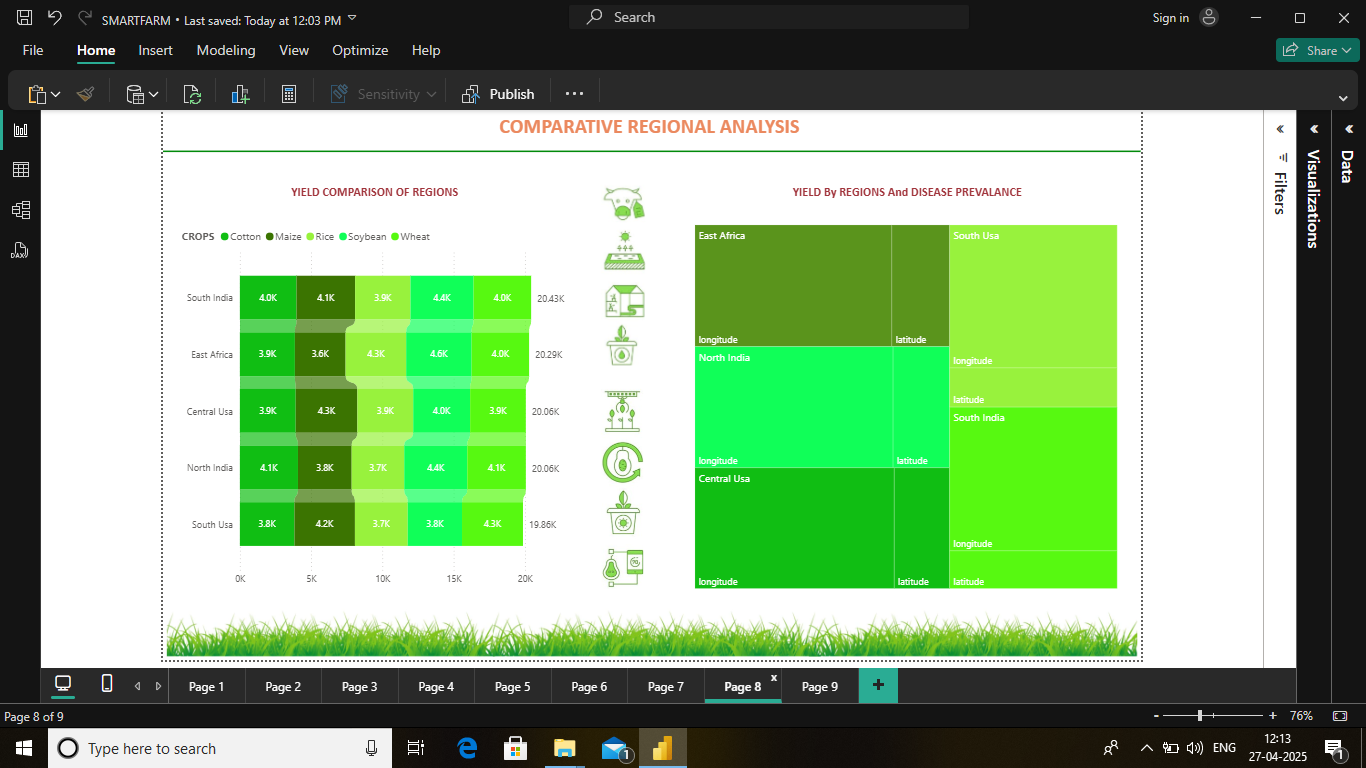

The dashboard page shown, as its layout file describes it:
{"tool":"powerbi","page":{"name":"Page 8","canvas":[1280,720],"ordinal":7},"visuals":[{"type":"shape","box":[0,26.4,1279.8,55.8],"z":0},{"type":"textbox","box":[19.1,0,1234.3,51.4],"z":1000},{"type":"barChart","fields":{"Y":["Smart_Farming_Crop_Yield_2024_CLEANED.Average Yield"],"Category":["Smart_Farming_Crop_Yield_2024_CLEANED.region"],"Series":["Smart_Farming_Crop_Yield_2024_CLEANED.crop_type"]},"box":[19.1,145.5,524.6,486.4],"z":2000},{"type":"treemap","fields":{"Group":["Smart_Farming_Crop_Yield_2024_CLEANED.region","Smart_Farming_Crop_Yield_2024_CLEANED.crop_disease_status"],"Values":["Avg(Smart_Farming_Crop_Yield_2024_CLEANED.latitude)","Avg(Smart_Farming_Crop_Yield_2024_CLEANED.longitude)"]},"box":[690.6,145.5,562.8,486.4],"z":3000},{"type":"image","box":[0,644.4,440.1,75.6],"z":4000},{"type":"image","box":[426.7,644.4,440.1,75.6],"z":5000},{"type":"image","box":[839.9,644.4,440.1,75.6],"z":6000},{"type":"textbox","box":[10.3,92.6,533.4,52.9],"z":7000},{"type":"textbox","box":[690.6,92.6,562.8,39.7],"z":8000},{"type":"image","box":[568.7,72,67.6,288],"z":9000},{"type":"image","box":[565.7,360,70.5,271.8],"z":10000}]}

Visuals, with their boxes on the page's 1280x720 design canvas (x1, y1, x2, y2). These are canvas units, not pixel positions in the 1366x768 screenshot, which may show the page scaled, cropped or inside an application window:
shape: (0, 26, 1280, 82)
textbox: (19, 0, 1253, 51)
barChart - Smart_Farming_Crop_Yield_2024_CLEANED.Average Yield x Smart_Farming_Crop_Yield_2024_CLEANED.region: (19, 146, 544, 632)
treemap - Smart_Farming_Crop_Yield_2024_CLEANED.region x Smart_Farming_Crop_Yield_2024_CLEANED.crop_disease_status: (691, 146, 1253, 632)
image: (0, 644, 440, 720)
image: (427, 644, 867, 720)
image: (840, 644, 1280, 720)
textbox: (10, 93, 544, 146)
textbox: (691, 93, 1253, 132)
image: (569, 72, 636, 360)
image: (566, 360, 636, 632)
